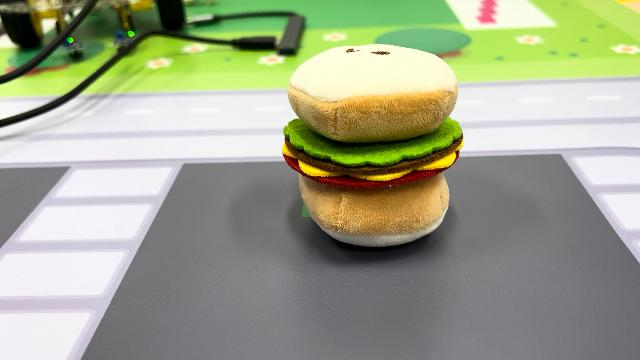sandwich: (279, 41, 466, 249)
